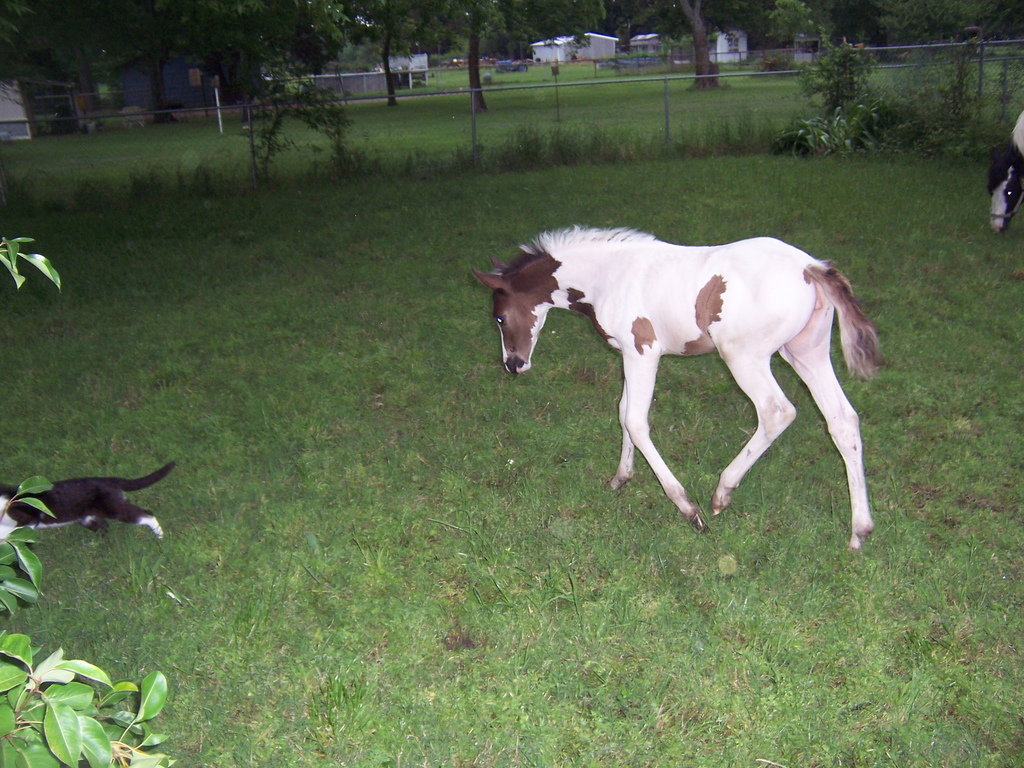horse: (468, 224, 892, 547)
